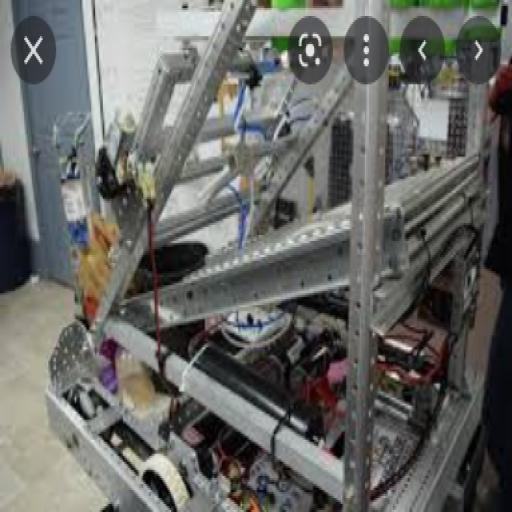robot: (48, 8, 485, 512)
